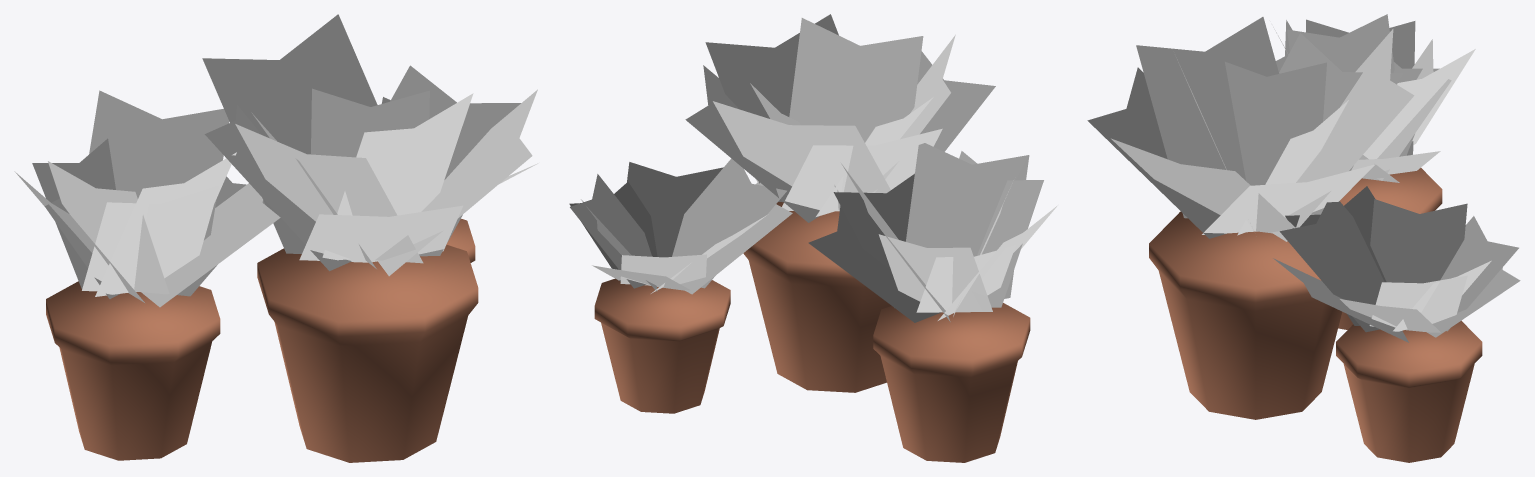
File: herb_pots.glb
3 views of the same model, side by side, from view 1: azimuth 30°, elevation 25°; view 2: azimuth 150°, elevation 25°; view 3: azimuth 270°, elevation 25° (orthographic). The views are drawn at different scales.
Visible parts, largest first — view 1: herb_pots; view 2: herb_pots; view 3: herb_pots.
Part boxes in pixels (left/top/right/bottom): herb_pots: left=14, top=14, right=538, bottom=462; herb_pots: left=569, top=14, right=1057, bottom=462; herb_pots: left=1087, top=14, right=1520, bottom=462.
Size of the model in its own units: 1.02 by 0.6991 by 0.8475.
